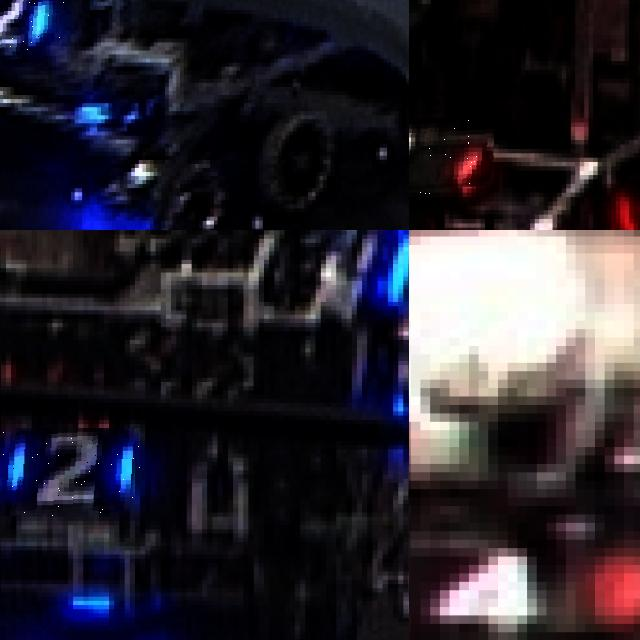B2: (0, 428, 140, 516), (0, 0, 67, 60)
R1: (409, 118, 496, 197), (589, 137, 640, 230)
